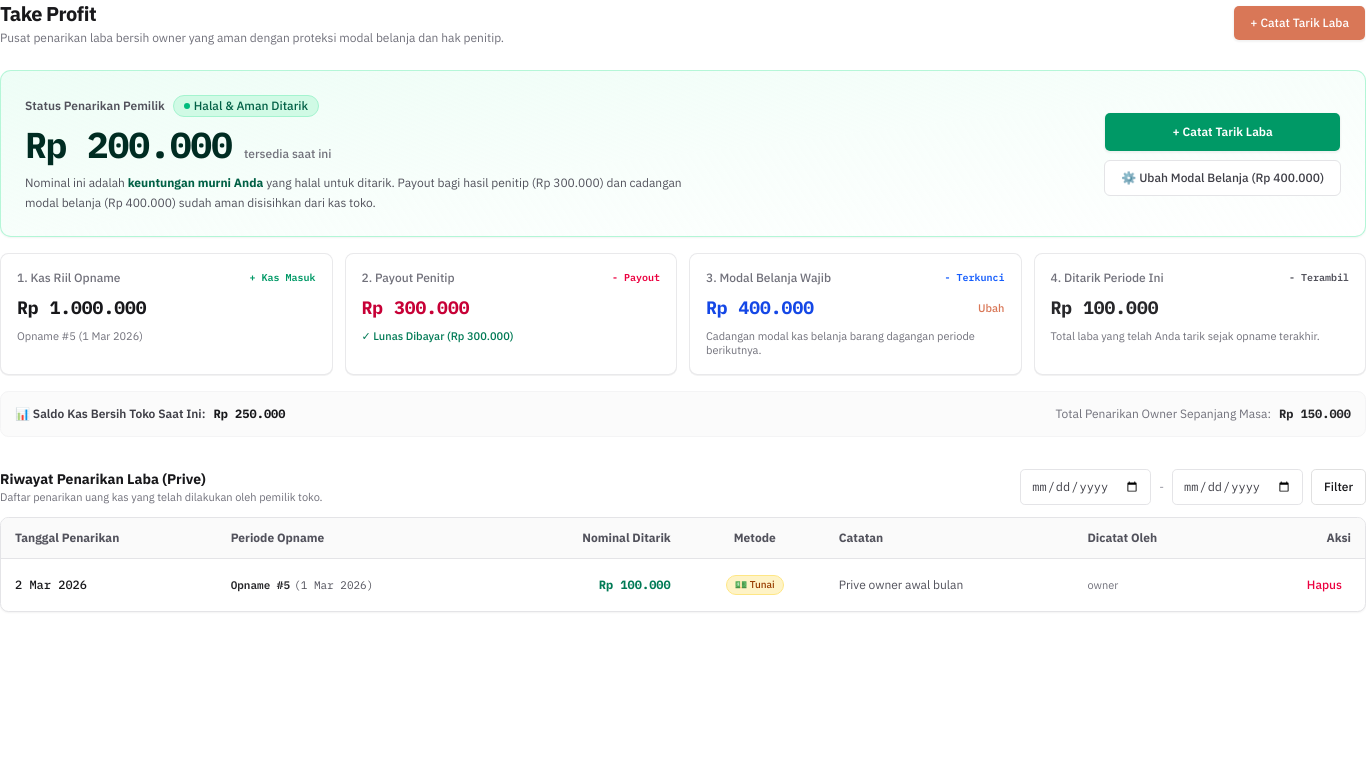
Test: TakeProfitPage Integration › loads overview and withdrawals list, opens withdraw dialog on click
Expected: the heading "Take Profit" is shown, [0,0,96,27]
Expected: the heading "Rp 200.000" is shown, [25,125,232,165]
// Click + Catat Tarik Laba button
Step 1. Click the button "+ Catat Tarik Laba" in the row of "Take Profit" → (1300, 23), box [1233,5,1365,41]
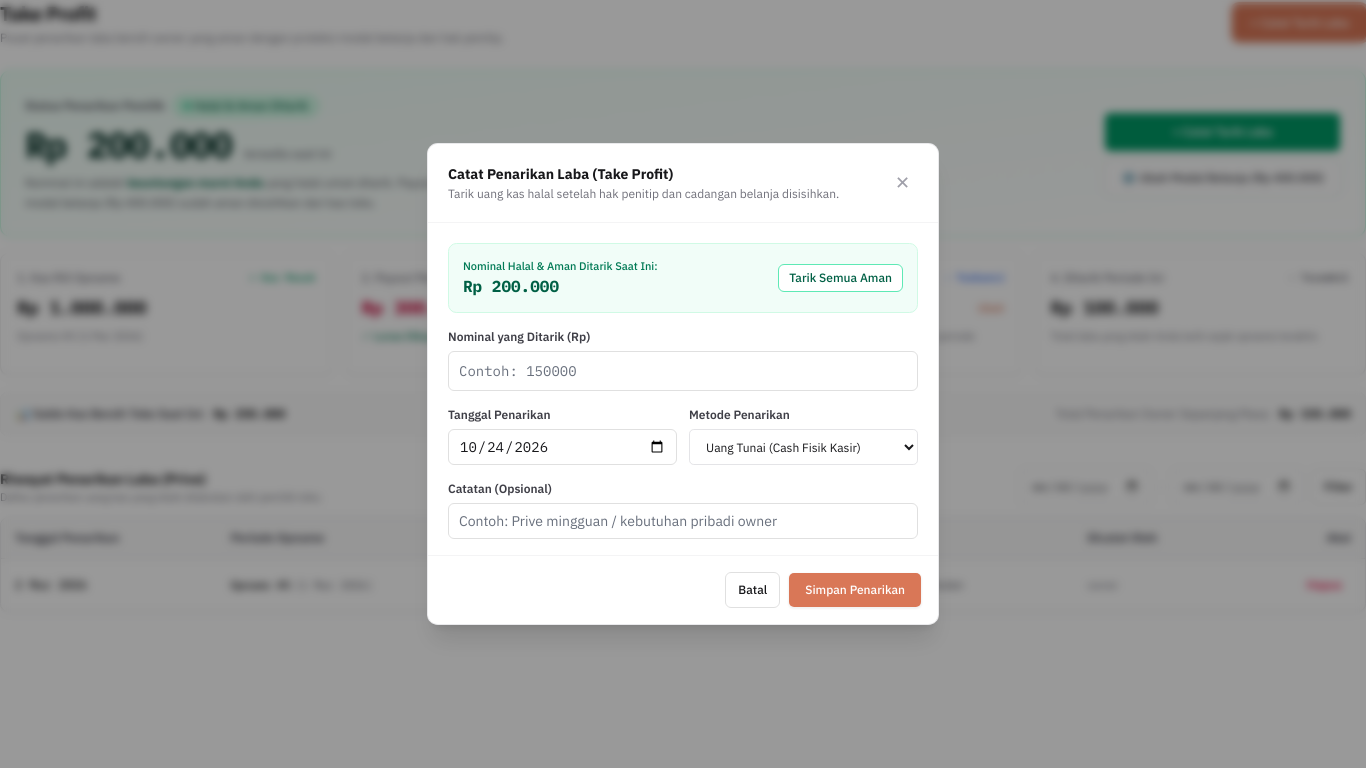
Expected: the dialog is shown
Expected: the heading "Catat Penarikan Laba (Take Profit)" is shown, [448,165,673,183]
